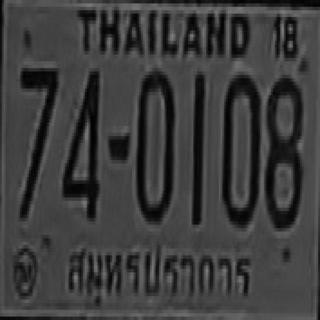N00: (220, 71, 258, 225), (136, 68, 173, 221)
N01: (192, 73, 202, 223)
N04: (61, 66, 98, 220)
N07: (18, 65, 56, 218)
N08: (264, 73, 302, 226)
P57: (63, 236, 254, 304)
